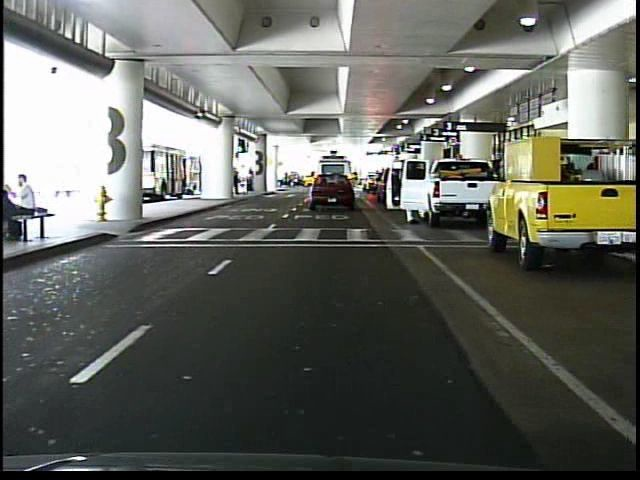person: (231, 163, 243, 198), (246, 166, 258, 194)
